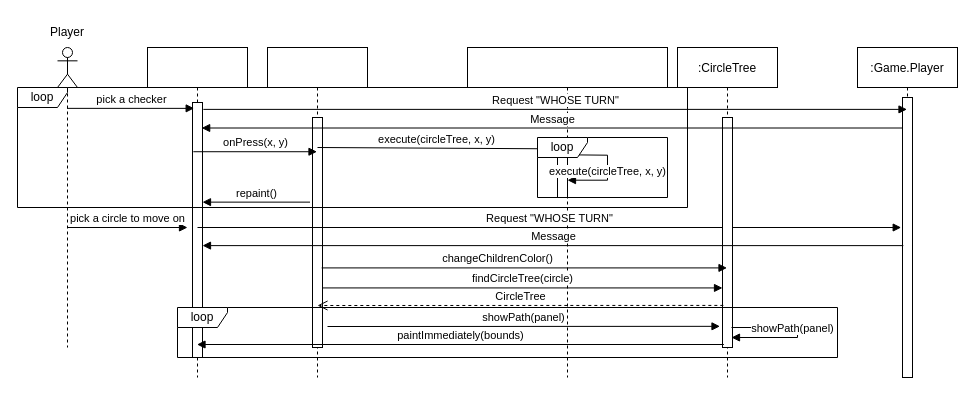
Some shapes in this 975 by 395 pixel diagram are drawn without their labels. Each missing label, with the box of its shape:
:CheckCirclesAlgorithm: (466, 46, 668, 378)
:CheckersClient: (146, 46, 248, 378)
:CirclesManager: (266, 46, 368, 378)
